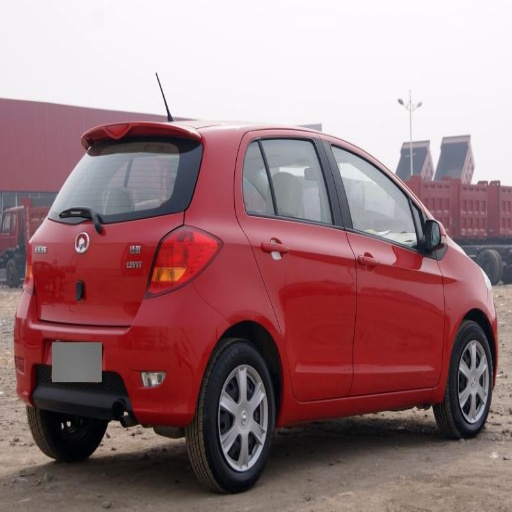back_bumper: (15, 280, 220, 430)
back_right_door: (240, 137, 356, 396)
trunk: (31, 217, 176, 334)
